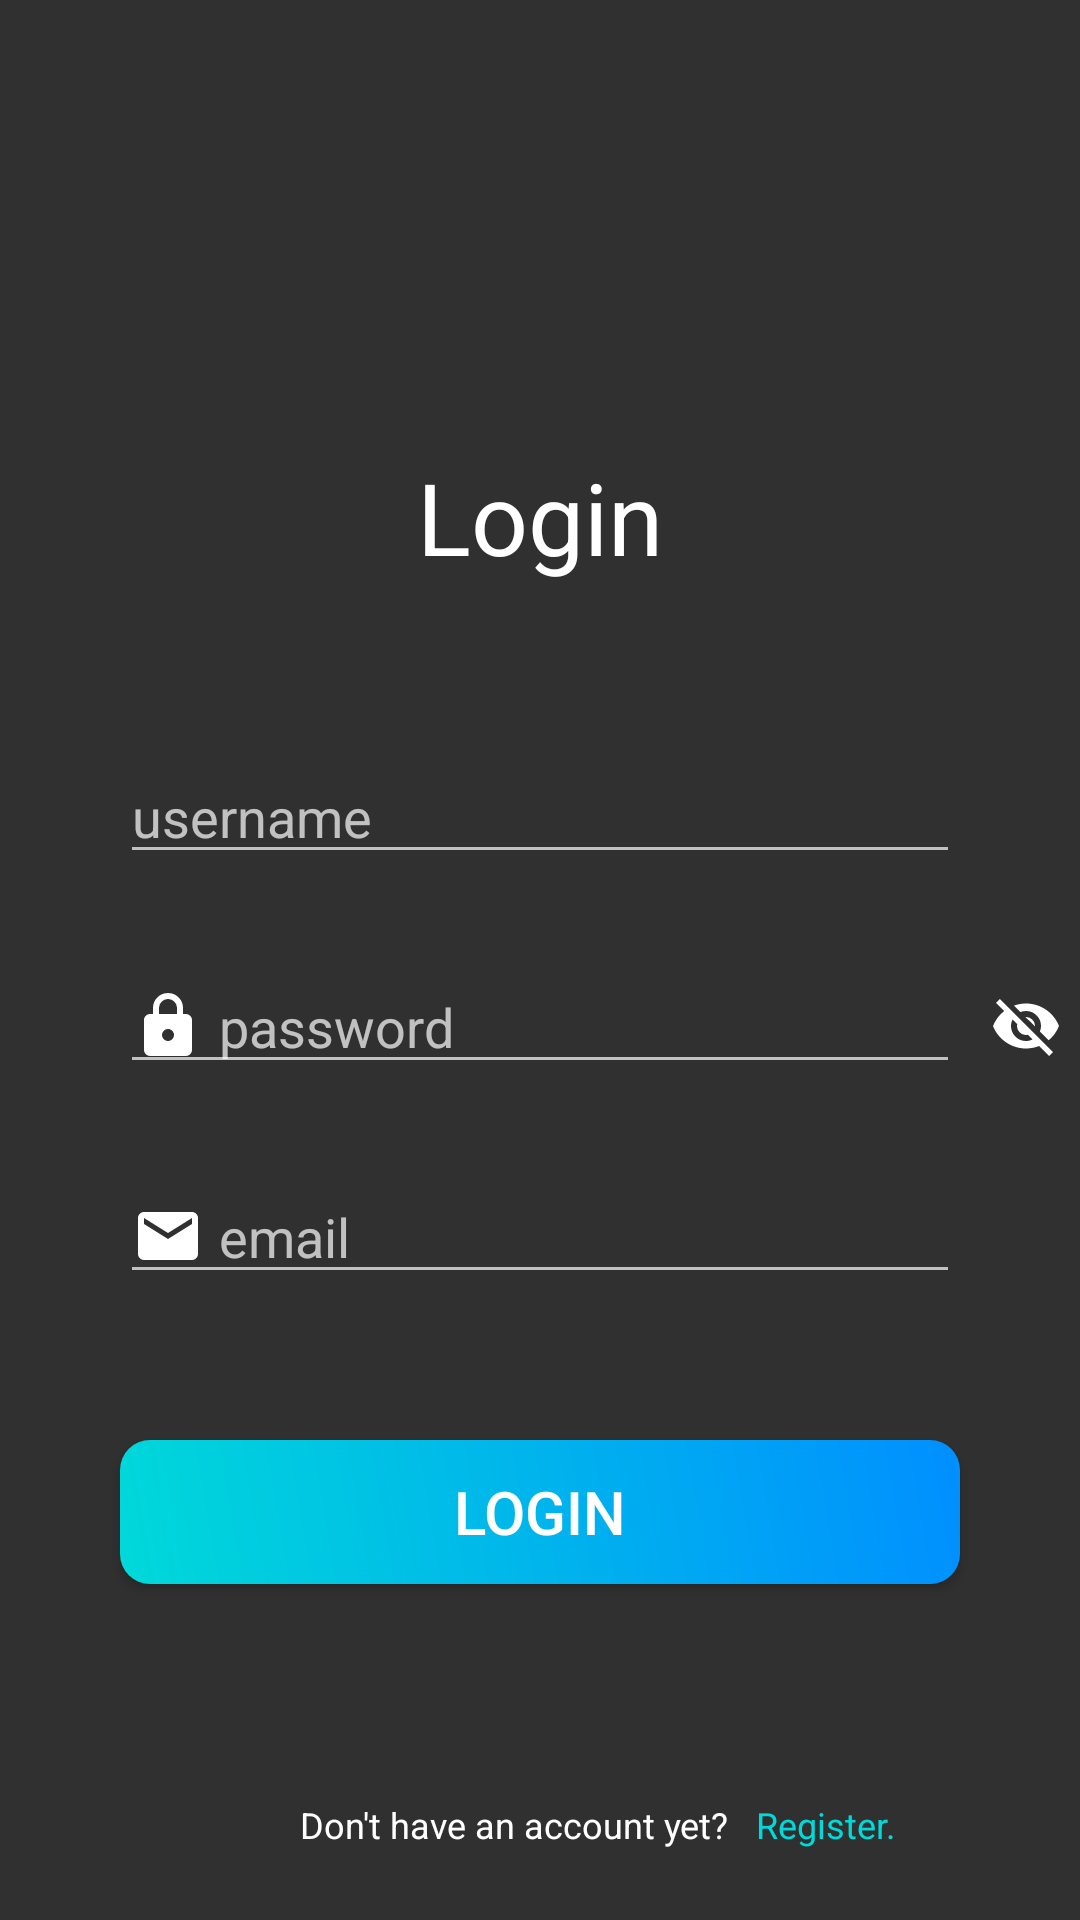

Named icons in this screenshot (1080px×1920px) and their bounding boxes, (x1,y1,x2,y2):
eye off: (993,999,1059,1056)
